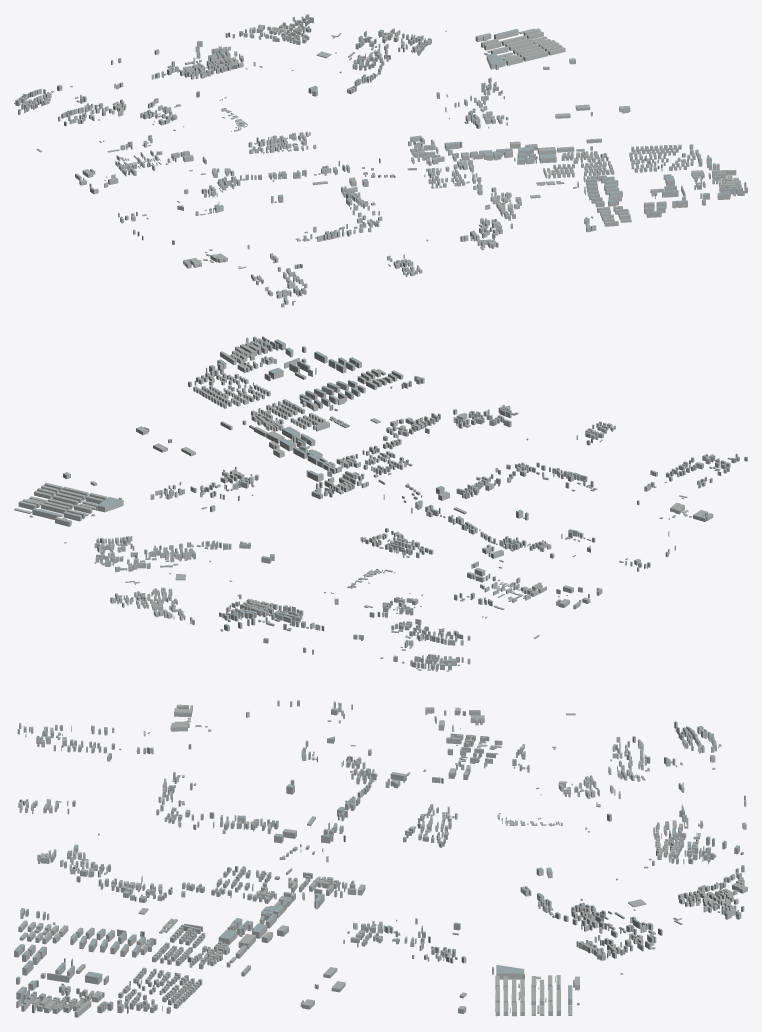
The model's file is far.glb.
The picture shows the model from 3 angles, top to bottom: view 1: azimuth 30°, elevation 25°; view 2: azimuth 150°, elevation 25°; view 3: azimuth 270°, elevation 25°; orthographic projection. The views are drawn at different scales.
Size of the model in its own units: 2125 by 25.4 by 2109.
